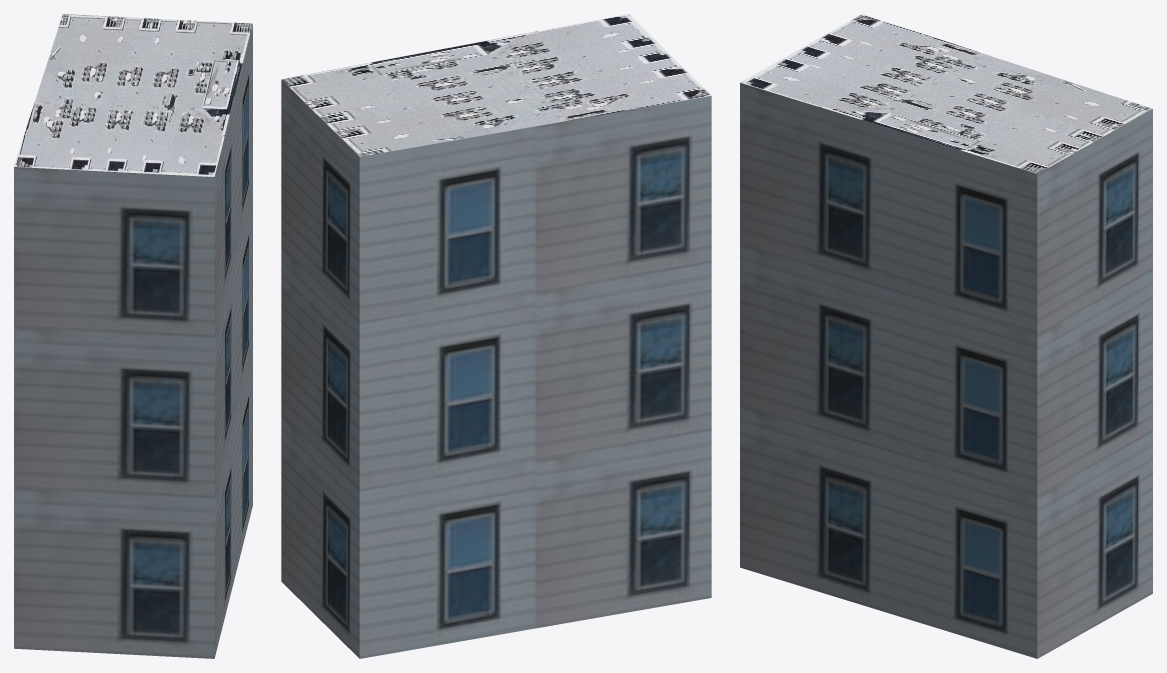
Rendered from ResTex__3689.fbx.
The picture shows the model from 3 angles, left to right: view 1: azimuth 30°, elevation 25°; view 2: azimuth 150°, elevation 25°; view 3: azimuth 270°, elevation 25°; orthographic projection. The views are drawn at different scales.
Parts seen in each view (by area): view 1: CityEngineMaterial_18_m, CityEngineMaterial_4_m; view 2: CityEngineMaterial_18_m, CityEngineMaterial_4_m; view 3: CityEngineMaterial_18_m, CityEngineMaterial_4_m.
Boxes of the visible parts, x1=… form: CityEngineMaterial_18_m: x1=14, y1=24, x2=252, y2=658; CityEngineMaterial_4_m: x1=14, y1=14, x2=252, y2=176; CityEngineMaterial_18_m: x1=281, y1=80, x2=711, y2=658; CityEngineMaterial_4_m: x1=281, y1=14, x2=711, y2=156; CityEngineMaterial_18_m: x1=740, y1=83, x2=1152, y2=658; CityEngineMaterial_4_m: x1=740, y1=14, x2=1152, y2=173.
Size of the model in its own units: 6.37 by 9 by 6.94.
2 materials, 2 textured.
